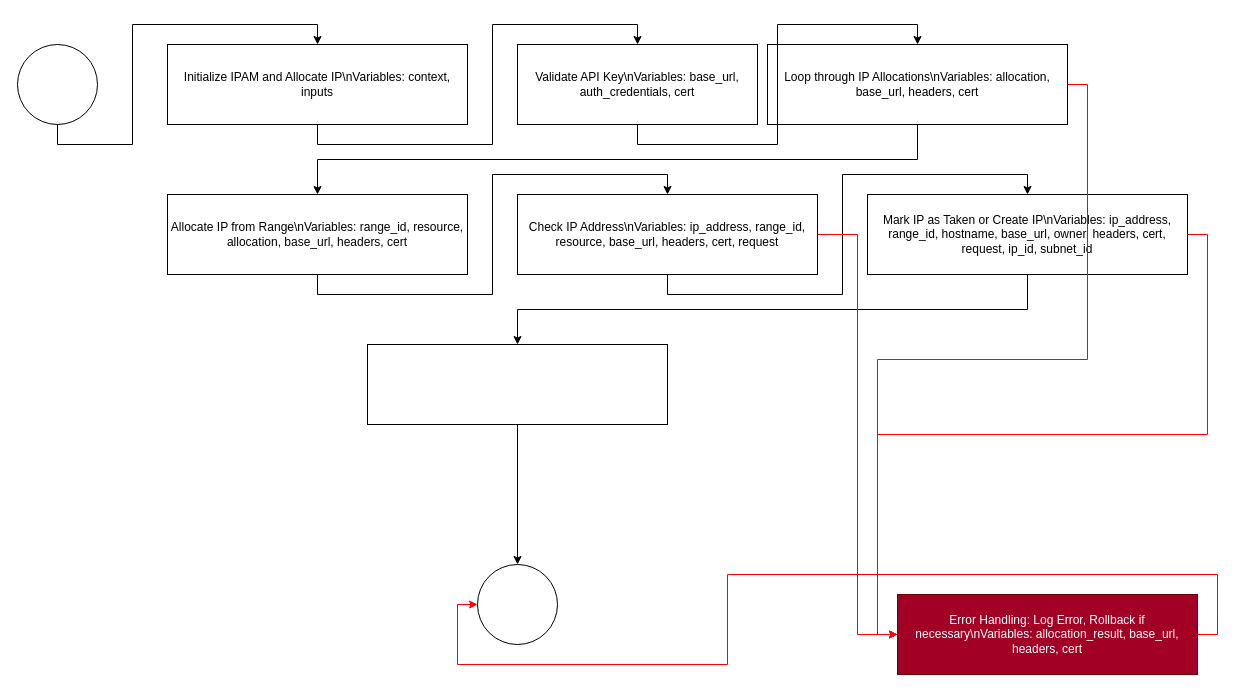
Some shapes in this 1243 by 692 pixel diagram are drawn without their labels. The shapes that lost their labels are listed below. From the top down, each one's centre as x and y in pixels, then its label:
At (57,84): "Start".
At (517,384): "Return Allocation Result\nVariables: allocation_result".
At (517,604): "End".
